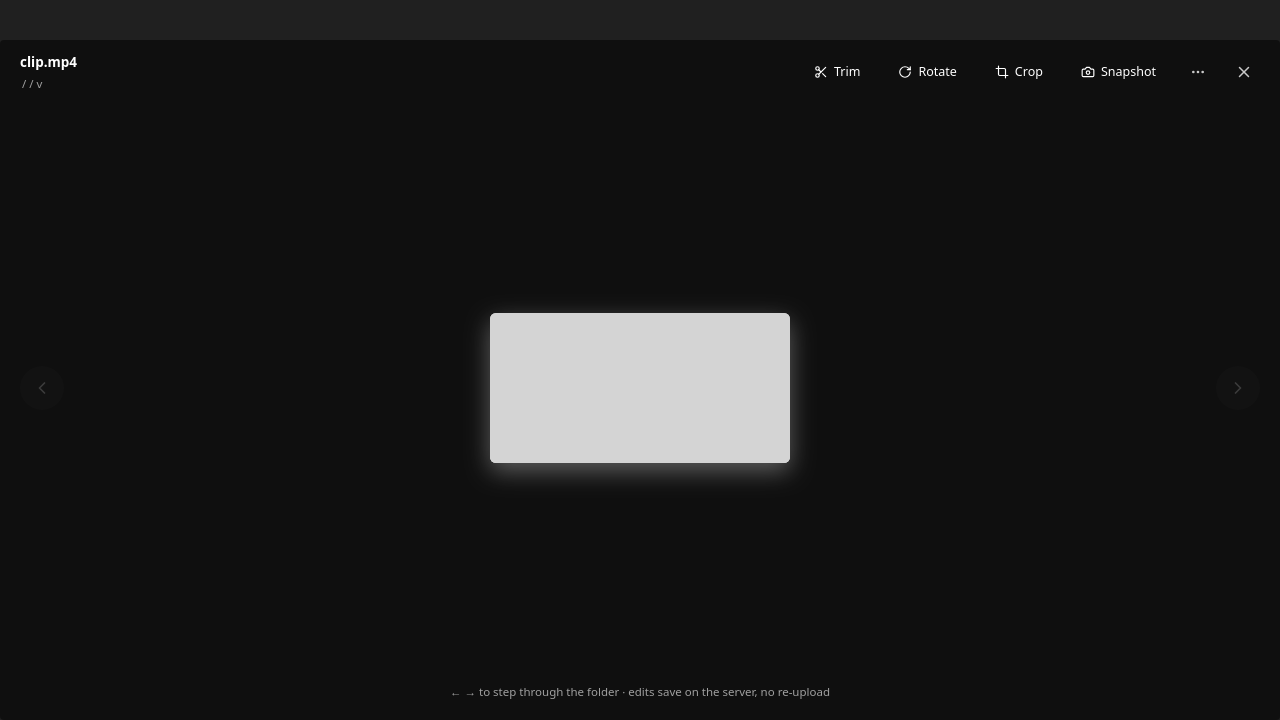
Scenario: QuickLookOverlay trim toolbar › adjusts a handle with arrow keys for keyboard accessibility
Click the button with aria-label "Trim video": (837, 72) [802,56,872,88]
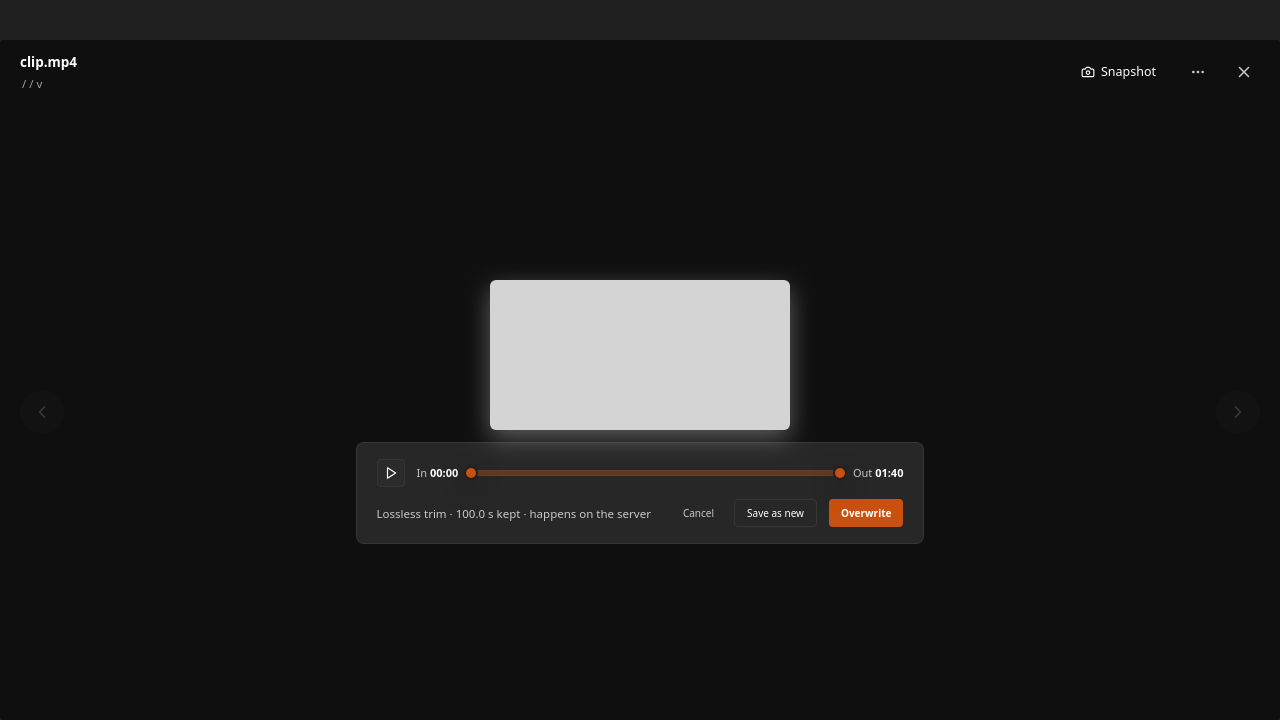
Press ArrowLeft in the slider named "Trim end", box [833,466,847,480]
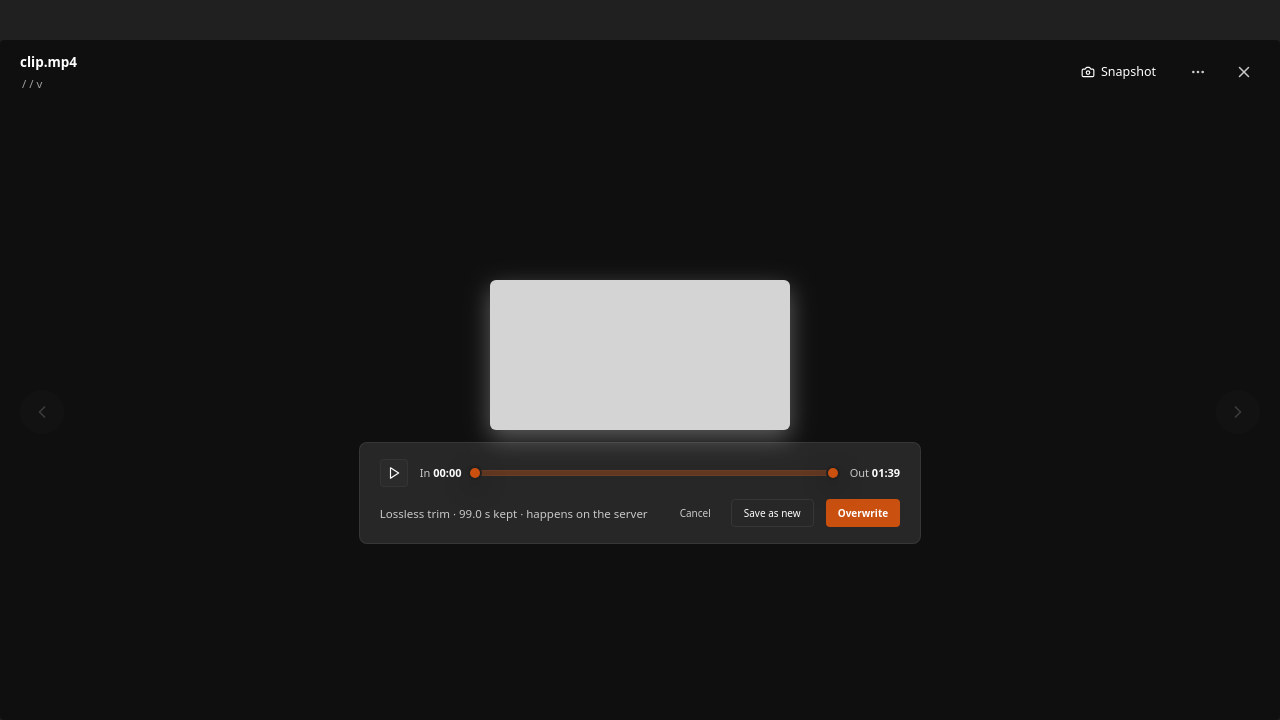
Now the text with test id "trim-out" reads "01:39", box [872,465,900,480]
